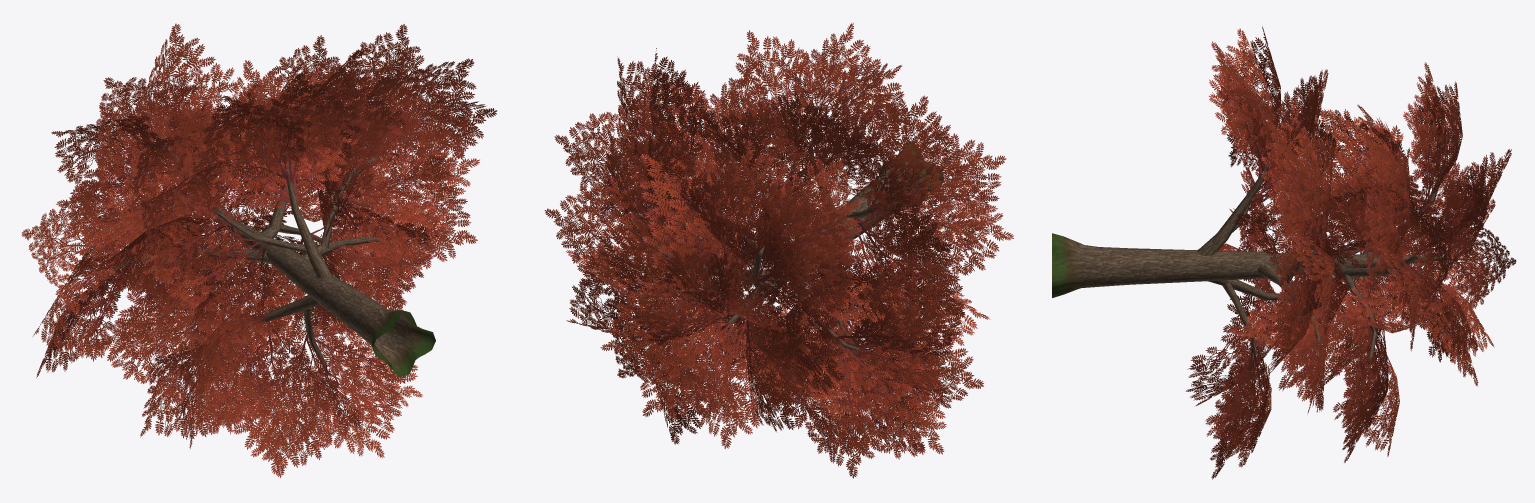
The model's file is deciduous_tree_4_LOD.fbx.
3 views of the same model, side by side, from view 1: azimuth 30°, elevation 25°; view 2: azimuth 150°, elevation 25°; view 3: azimuth 270°, elevation 25° (orthographic).
Visible parts, largest first — view 1: Deciduous_tree4_LOD0; view 2: Deciduous_tree4_LOD0; view 3: Deciduous_tree4_LOD0.
Boxes of the visible parts, <box> form: Deciduous_tree4_LOD0: <box>21,23,497,477</box>; Deciduous_tree4_LOD0: <box>544,23,1013,478</box>; Deciduous_tree4_LOD0: <box>1052,26,1516,479</box>.
Size of what is drawn, in the model's own units: 1588 by 1429 by 1413.
